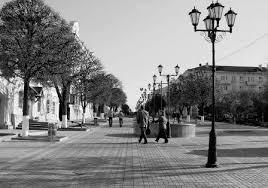Animal: (188, 0, 238, 165), (155, 62, 181, 135)
